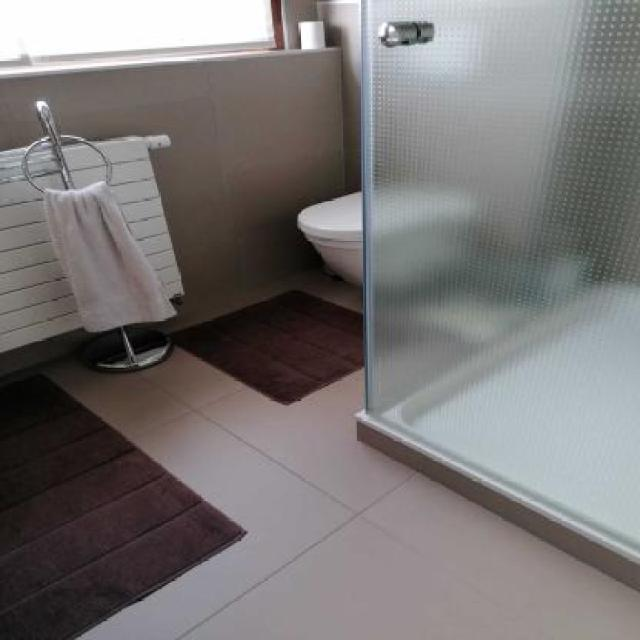floor: (0, 266, 640, 640)
